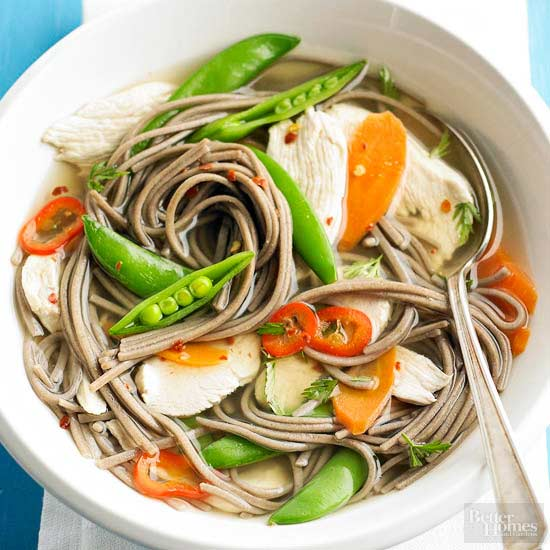Soba: (12, 71, 518, 532)
